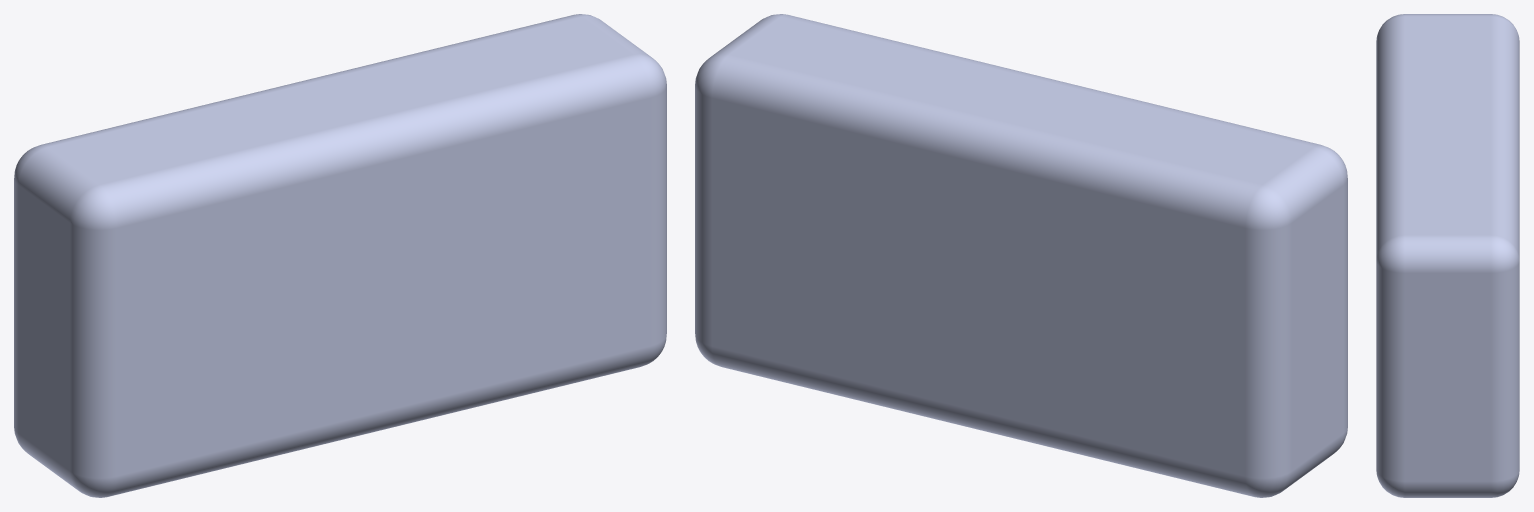
File: bloco_1cmderaio.dae
3 renders of one model, left to right at view 1: azimuth 30°, elevation 25°; view 2: azimuth 150°, elevation 25°; view 3: azimuth 270°, elevation 25°, orthographic. The views are drawn at different scales.
Visible parts, largest first — view 1: node_cc6e9389_81ae_4223_bce4_72853a84f16f_mesh0; view 2: node_cc6e9389_81ae_4223_bce4_72853a84f16f_mesh0; view 3: node_cc6e9389_81ae_4223_bce4_72853a84f16f_mesh0.
Part boxes in pixels (x1,y1,x2,y2): node_cc6e9389_81ae_4223_bce4_72853a84f16f_mesh0: (14, 14, 666, 497); node_cc6e9389_81ae_4223_bce4_72853a84f16f_mesh0: (695, 14, 1347, 497); node_cc6e9389_81ae_4223_bce4_72853a84f16f_mesh0: (1376, 14, 1519, 497).
Size of the model in its own units: 0.2 by 0.1 by 0.05.
